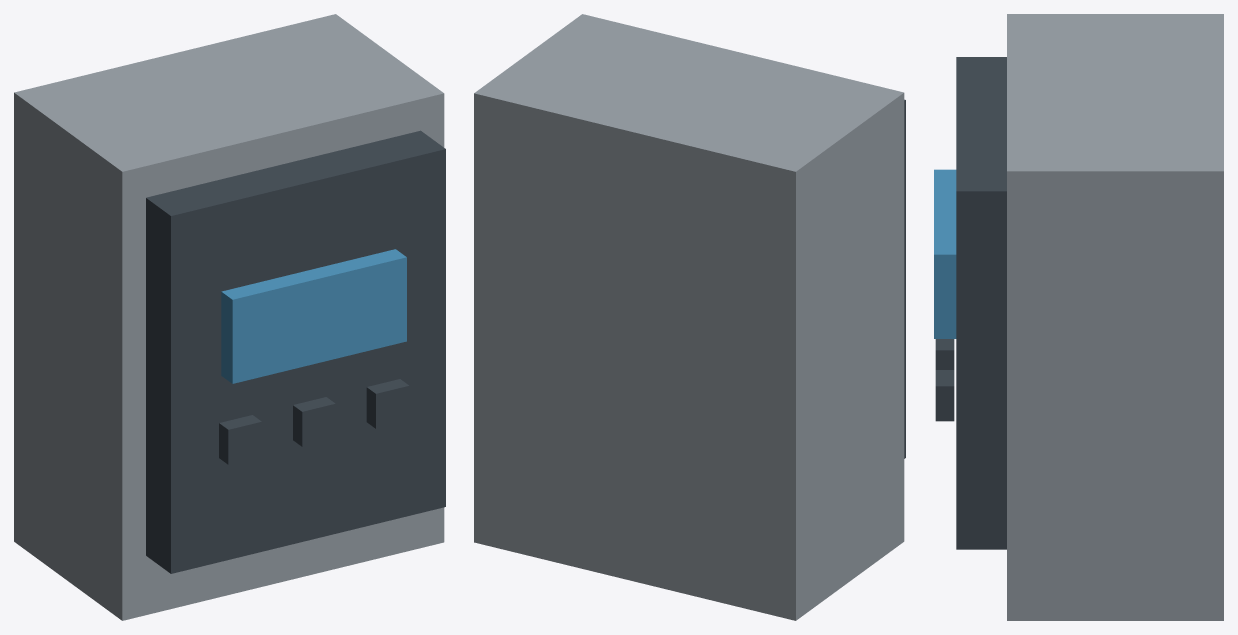
File: stlib-ele-power-meter-standalone-v1.gltf
3 renders of one model, left to right at view 1: azimuth 30°, elevation 25°; view 2: azimuth 150°, elevation 25°; view 3: azimuth 270°, elevation 25°, orthographic.
Visible parts, largest first — view 1: body, bezel, display, button3, button2, button1; view 2: body, bezel; view 3: body, bezel, display, button3, button2.
Part boxes in pixels (x1=…): body: x1=14, y1=14, x2=444, y2=620; bezel: x1=146, y1=130, x2=445, y2=573; display: x1=221, y1=249, x2=406, y2=383; button3: x1=366, y1=379, x2=409, y2=428; button2: x1=293, y1=397, x2=335, y2=446; button1: x1=219, y1=415, x2=261, y2=464; body: x1=474, y1=14, x2=904, y2=620; bezel: x1=904, y1=99, x2=905, y2=458; body: x1=1007, y1=14, x2=1223, y2=620; bezel: x1=956, y1=57, x2=1006, y2=549; display: x1=934, y1=169, x2=956, y2=338; button3: x1=935, y1=370, x2=954, y2=421; button2: x1=935, y1=339, x2=954, y2=369.
Size of the model in its own units: 0.24 by 0.32 by 0.187.
